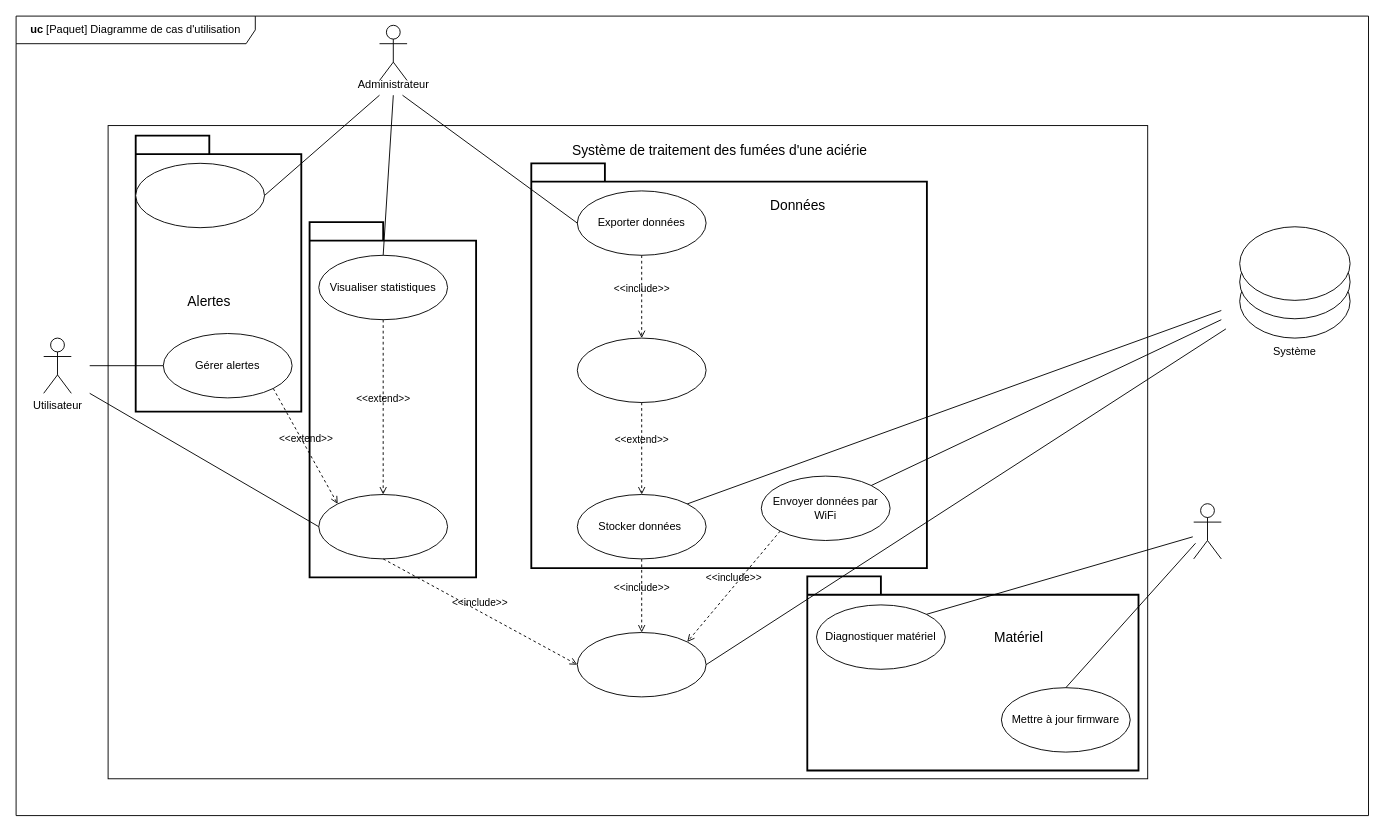
Some shapes in this 1385 by 832 pixel diagram are drawn without their labels. The shapes that lost their labels are listed below. From the top down, each one's box as (x1, y1, x2, y2) in pixels, then its label:
(135, 162, 264, 228): Configurer seuils d'alerte
(576, 337, 706, 402): Stocker historique
(318, 494, 448, 559): Afficher données temps réel
(1193, 503, 1221, 559): Technicien
(576, 632, 706, 697): Mesurer conditions environnementales
